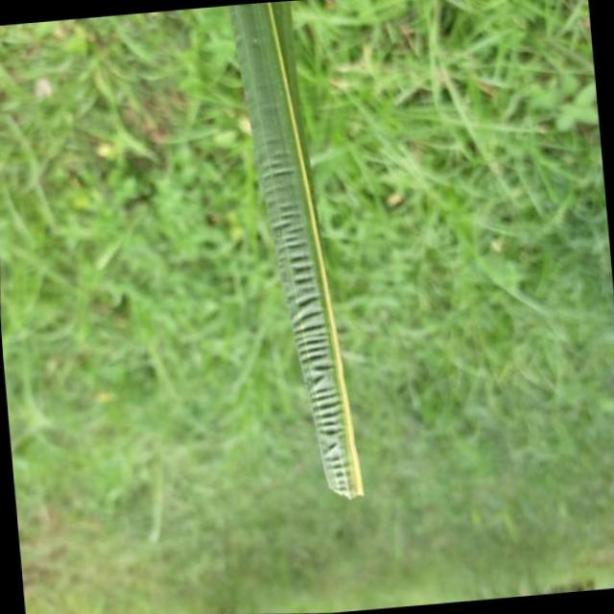Boron: (227, 0, 368, 504)
